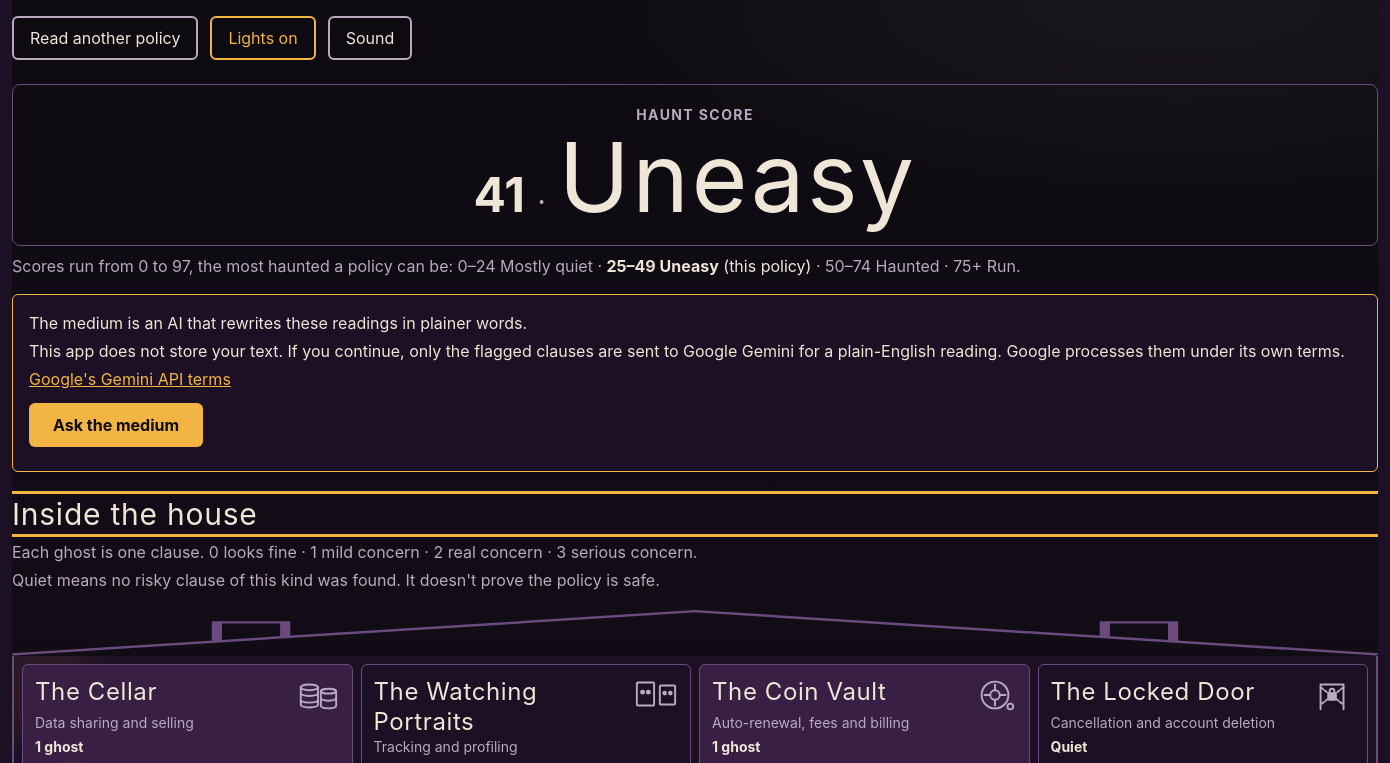
Scenario: OptInPanel (R14) › on no-key: keeps the rules, shows The medium is silent right now. Showing the rule reading., re-enabled false (R14.6)
Click the button "Ask the medium".
click(116, 425)  # box [29, 403, 203, 447]
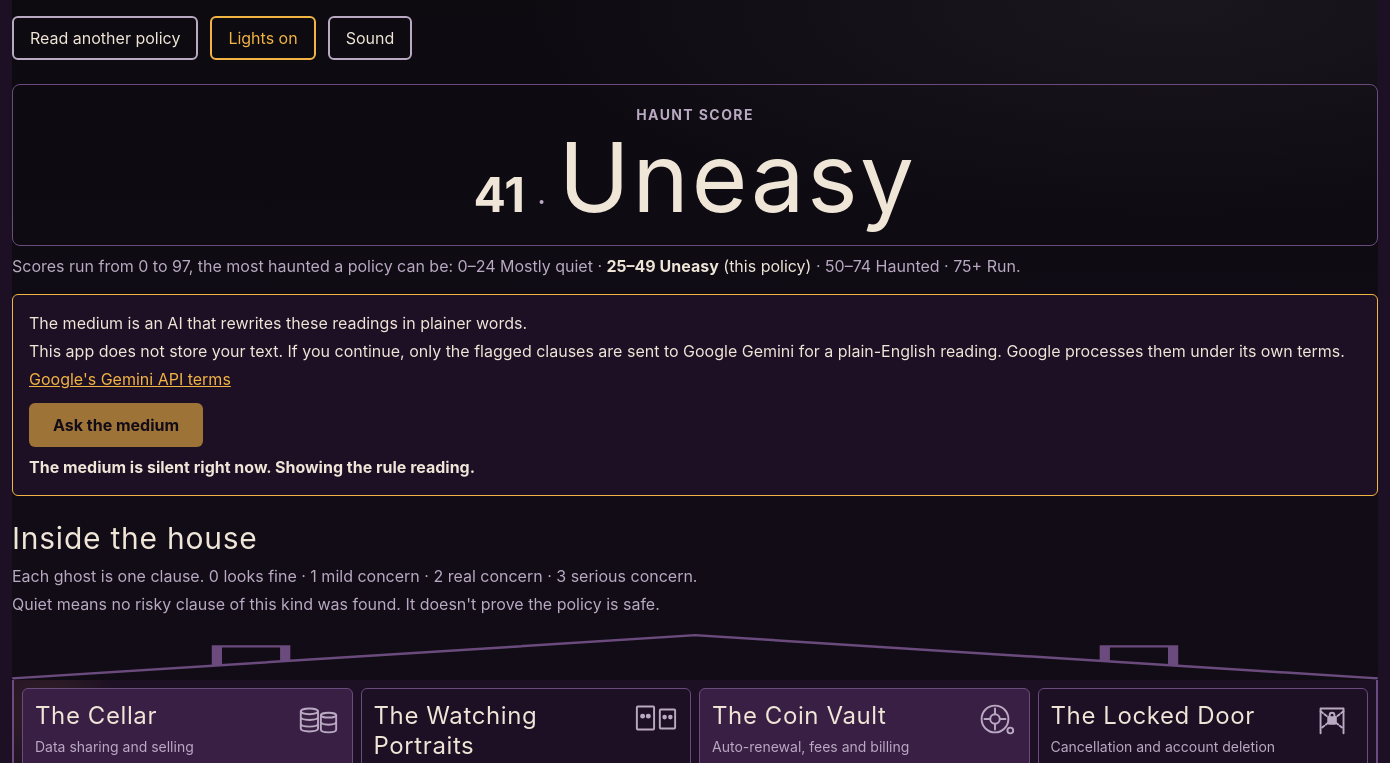
expect the text "The medium is silent right now. Showing the rule reading." is shown: met, box [29, 457, 475, 477]
expect the button "Ask the medium" is disabled: met, box [29, 403, 203, 447]
